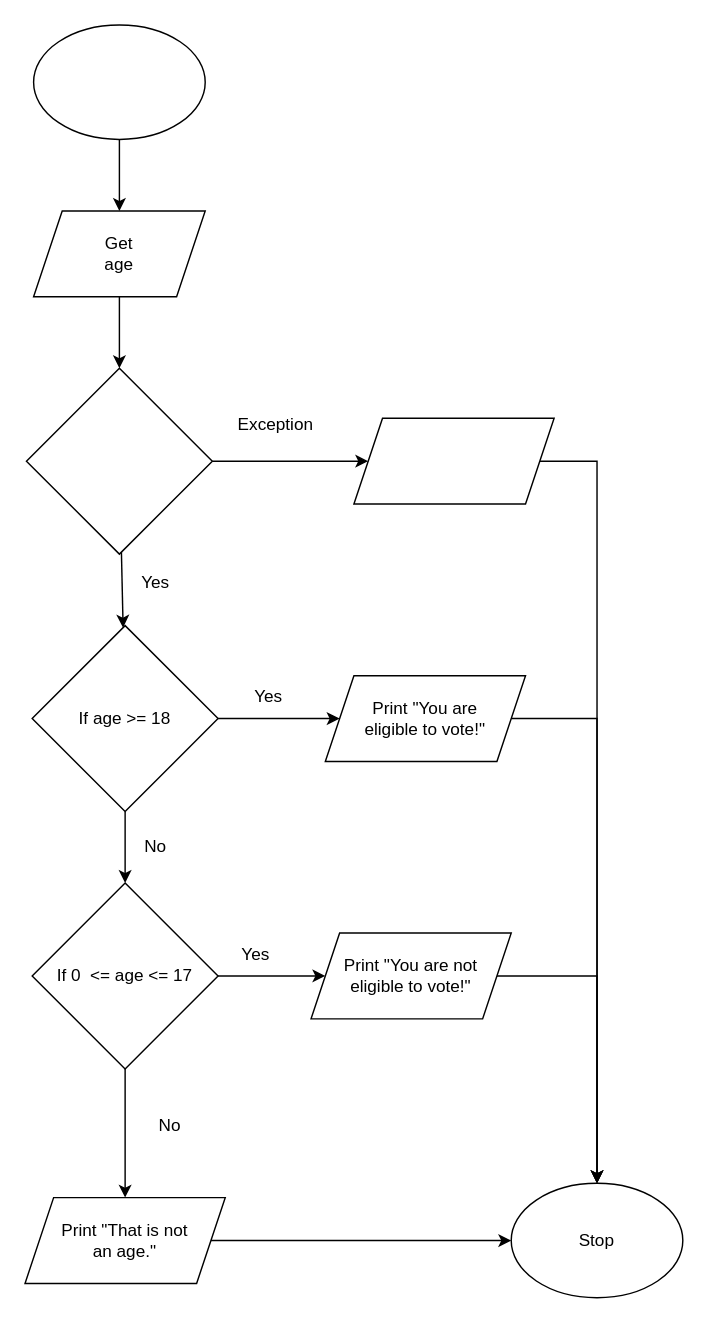
Image size: 708x1323. Some labels were removed from this diagram. The centre of each missing label's shape, as x and y in pixels:
Print "Please enter a valid number": the point at 453,460
Start: the point at 118,81
Try: the point at 118,460
